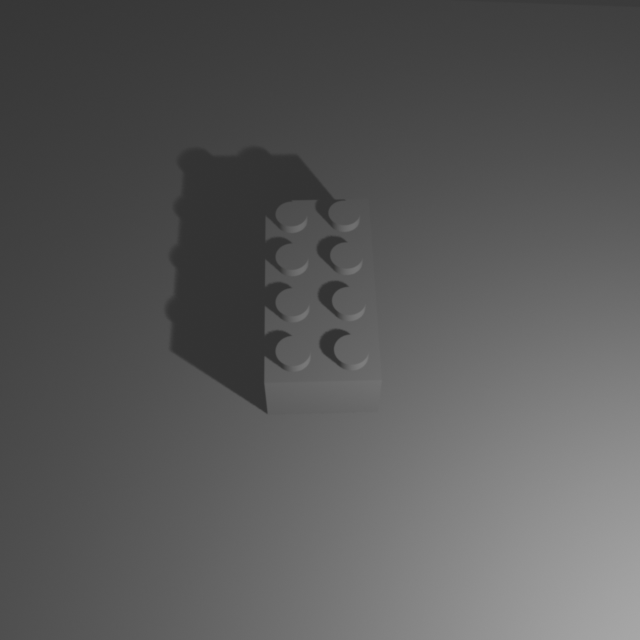lego_2x4: (264, 192, 383, 414)
